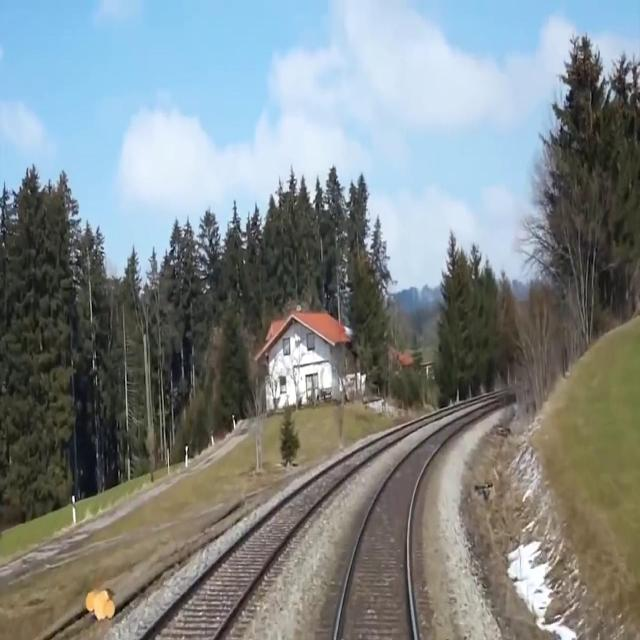rail-track: (146, 438, 390, 639), (338, 420, 464, 639)
